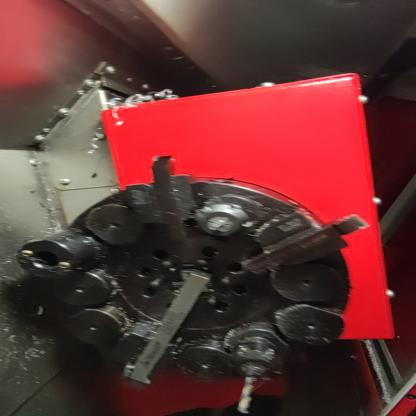bit: (96, 266, 222, 392), (232, 204, 378, 282), (119, 146, 210, 243)
